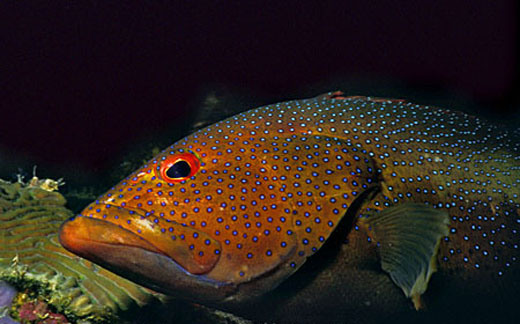Cephalopholis_fulvaw: (46, 70, 520, 311)
